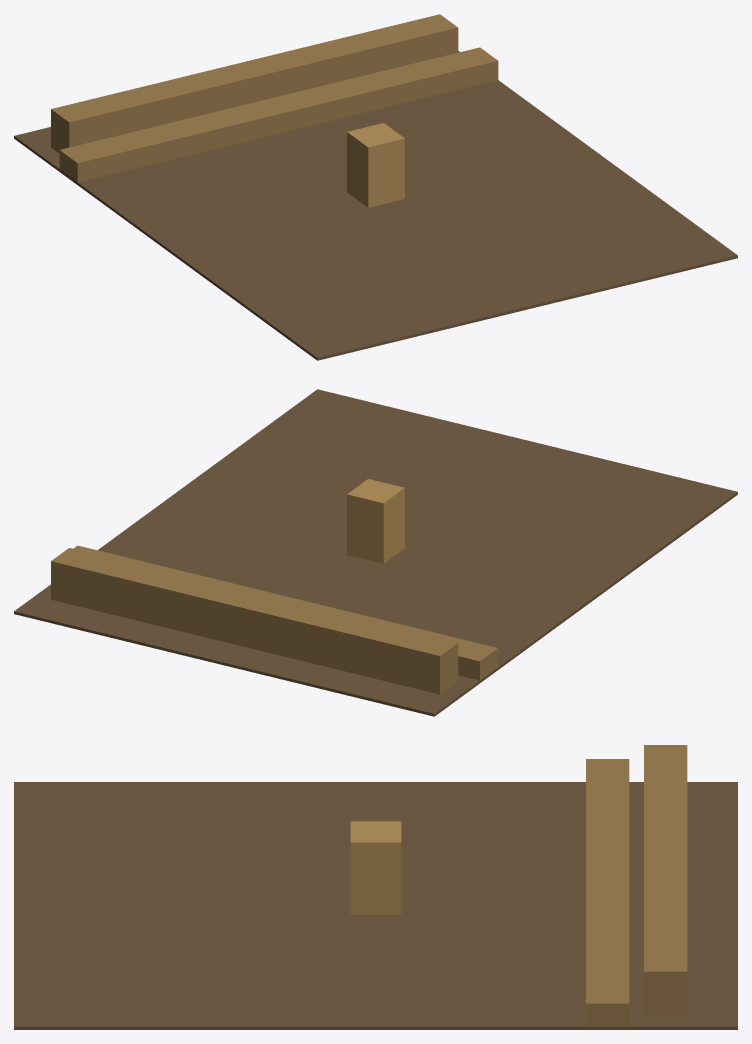
The model's file is amber_forum.glb.
3 views of the same model, one above another, from view 1: azimuth 30°, elevation 25°; view 2: azimuth 150°, elevation 25°; view 3: azimuth 270°, elevation 25° (orthographic). The views are drawn at different scales.
Parts seen in each view (by area): view 1: world; view 2: world; view 3: world.
Part boxes in pixels (x1,y1,x2,y2): world: (14, 14, 737, 360); world: (14, 389, 737, 716); world: (14, 745, 737, 1029).
Bounding box in the file's own units: 8 × 1.15 × 10.
